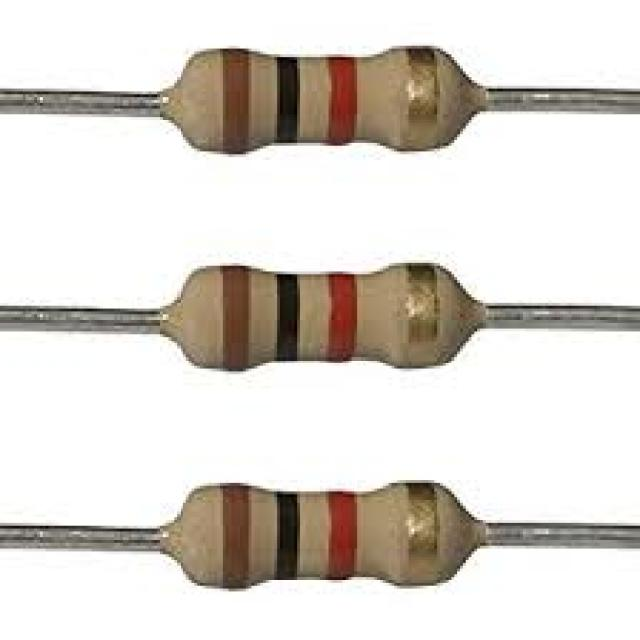Resistor: (161, 46, 501, 154), (154, 263, 507, 367), (162, 481, 481, 588)
